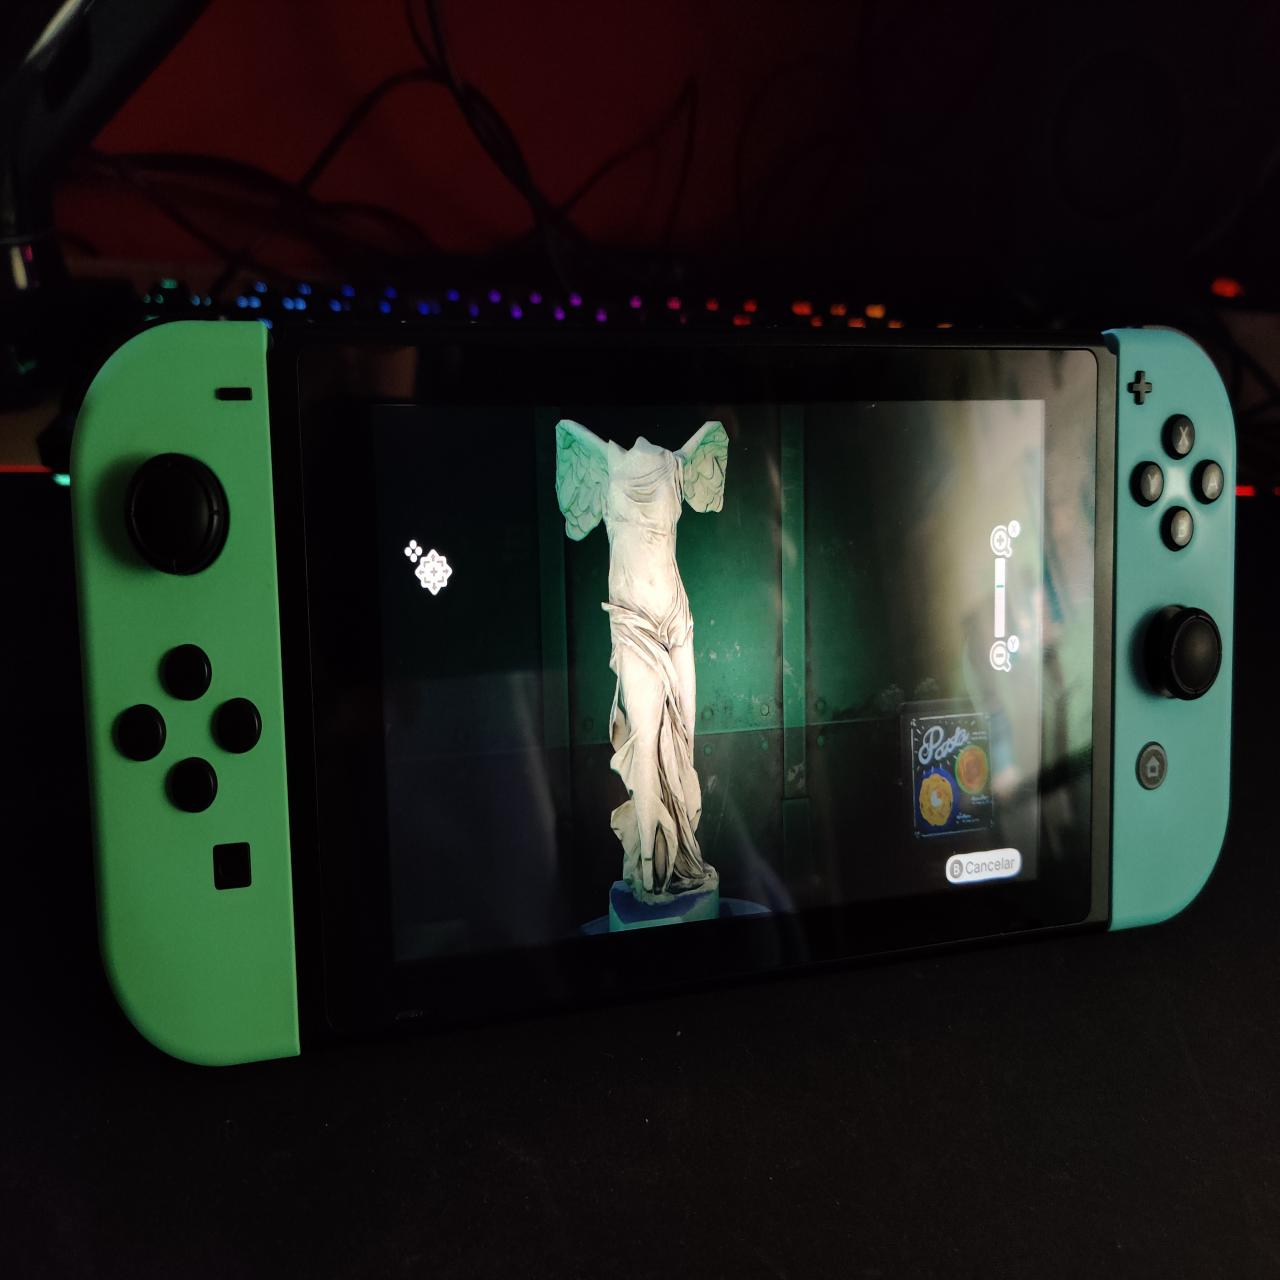Samothrace: (547, 411, 743, 935)
